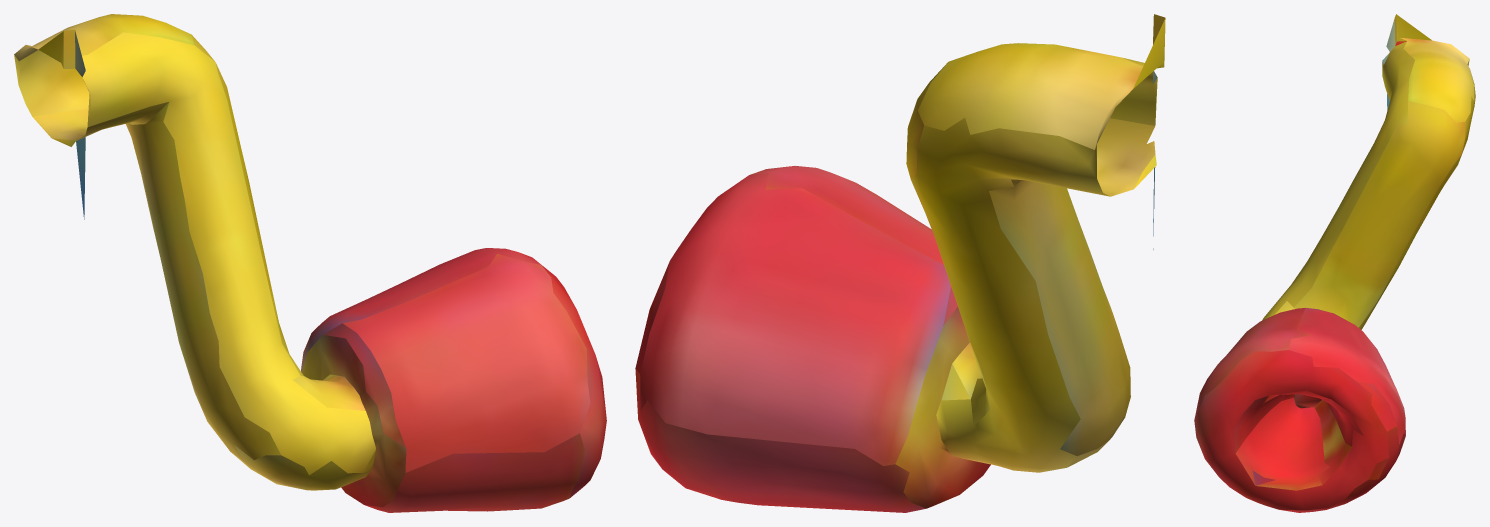
File: crank.glb
3 renders of one model, left to right at view 1: azimuth 30°, elevation 25°; view 2: azimuth 150°, elevation 25°; view 3: azimuth 270°, elevation 25°, orthographic. The views are drawn at different scales.
Parts seen in each view (by area): view 1: world; view 2: world; view 3: world.
Part boxes in pixels (left/top/right/bottom): world: left=14, top=14, right=606, bottom=512; world: left=635, top=14, right=1165, bottom=512; world: left=1194, top=14, right=1475, bottom=512.
Bounding box in the file's own units: 0.0284 × 0.0325 × 0.0229.
1 material, 1 textured.
